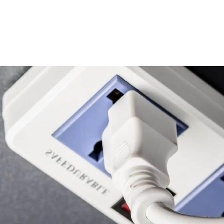three_eye_plug: (0, 19, 224, 224)
